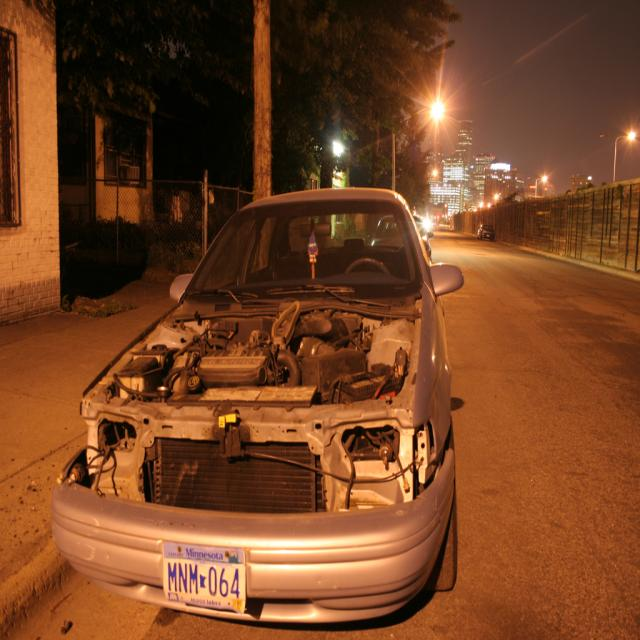car: (70, 201, 464, 623)
